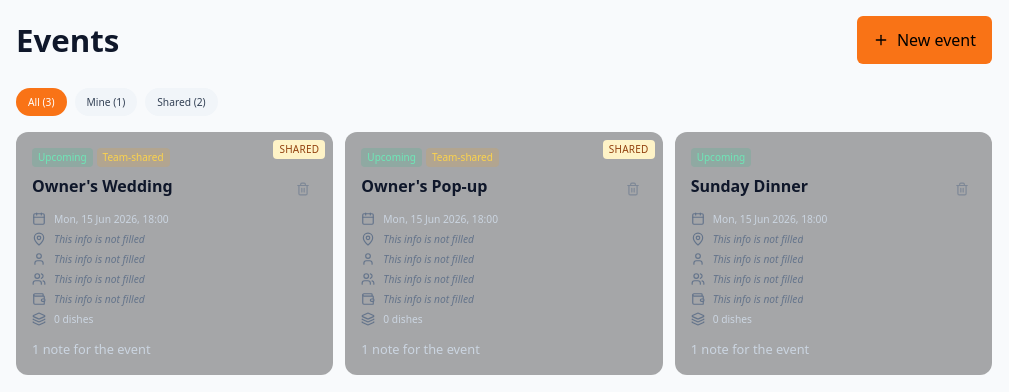
Test case: EventsLibrary — Mine vs Shared scope filter (T3c follow-up) › renders the chip row + filters correctly when shared events are present
This screenshot has width=1009, height=392.
Check: the element with test id "events-scope-chip-row" is shown, box [16,88,218,116]
Check: the tab with test id "events-scope-all" reads "All (3)", box [16,88,66,116]
Click the tab with test id "events-scope-mine": (106, 102) [74,88,137,116]
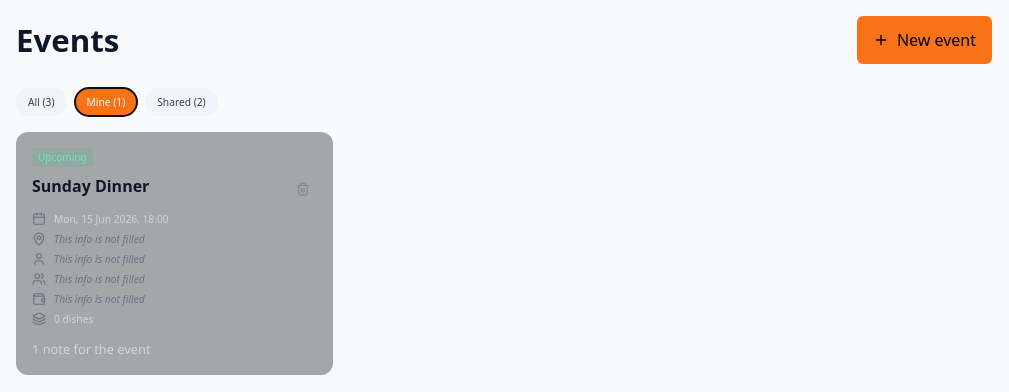
Check: the link "Sunday Dinner" is shown, box [32,175,149,197]
Check: the link "Owner's Wedding" is gone
Click the tab with test id "events-scope-shared": (181, 102) [145,88,218,116]
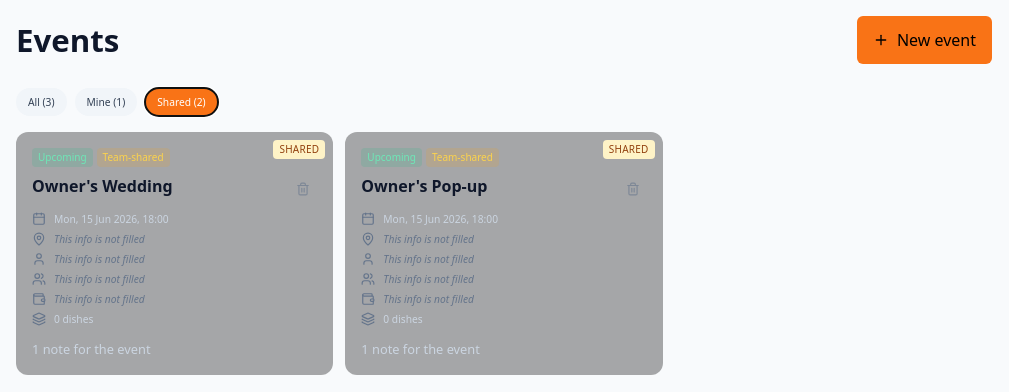
Check: the link "Sunday Dinner" is gone
Check: the link "Owner's Wedding" is shown, box [32,175,173,197]
Check: the link "Owner's Pop-up" is shown, box [361,175,487,197]
